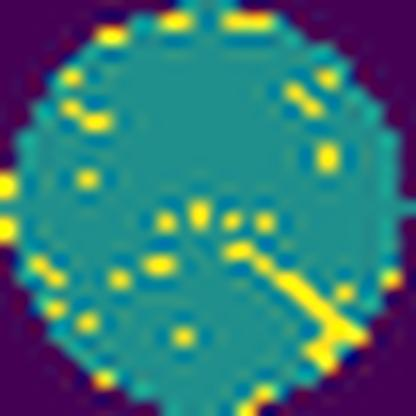Scratch: (219, 237, 372, 379)
